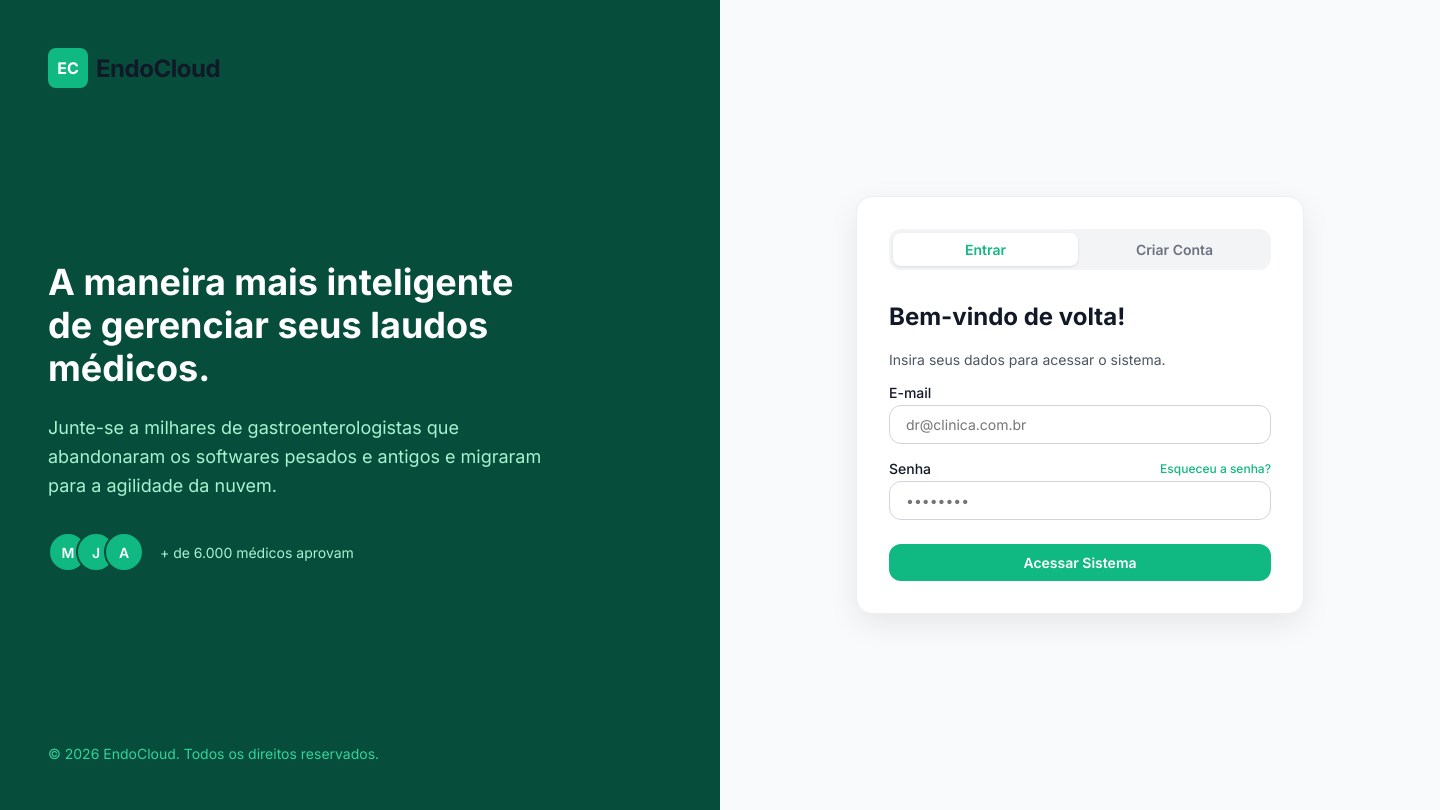
AuthPage › volta ao formulário de login ao clicar em Entrar
Click the button "Criar Conta" at (1174,250), box [1082,233,1267,266]
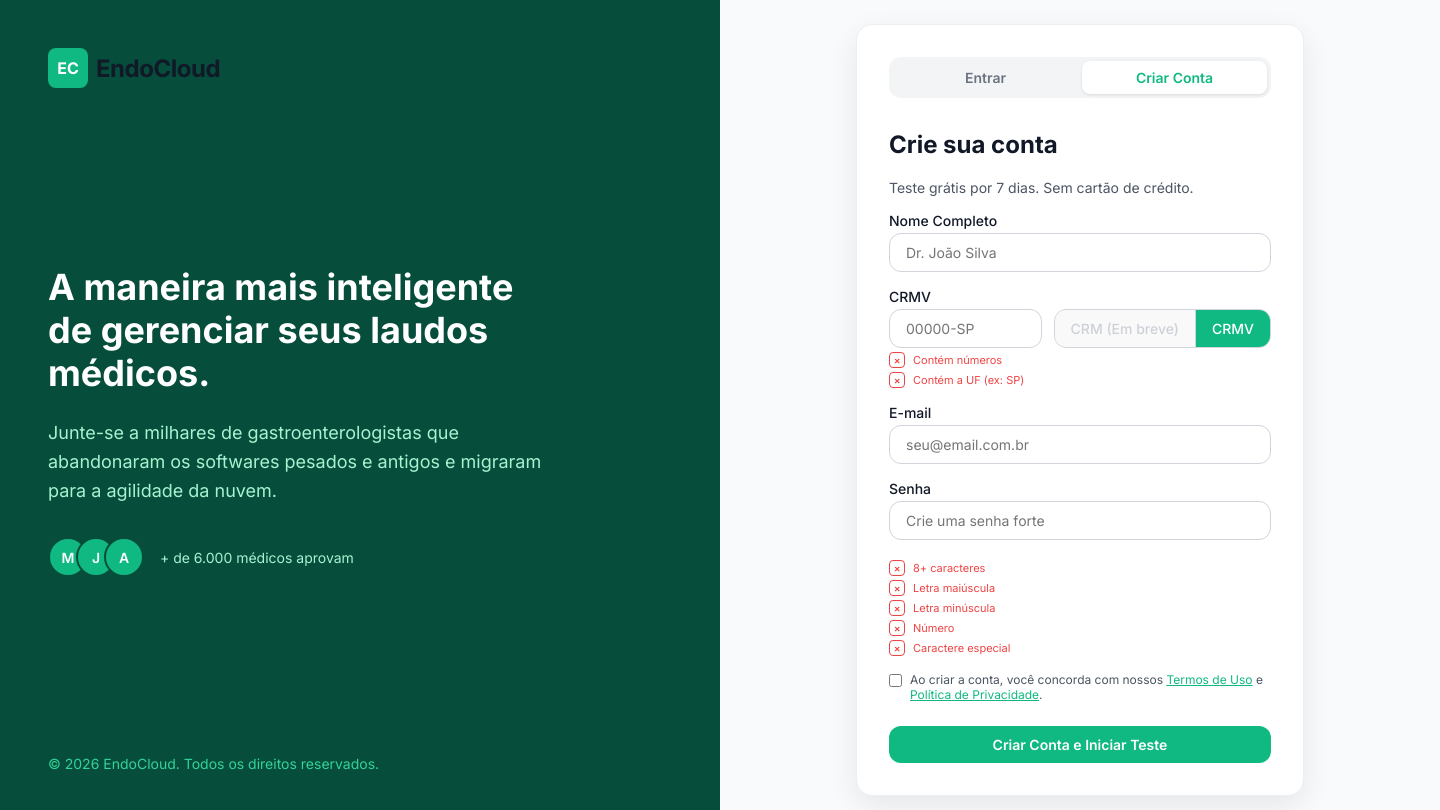
Click the button "Entrar" at (986,78), box [893,61,1078,94]
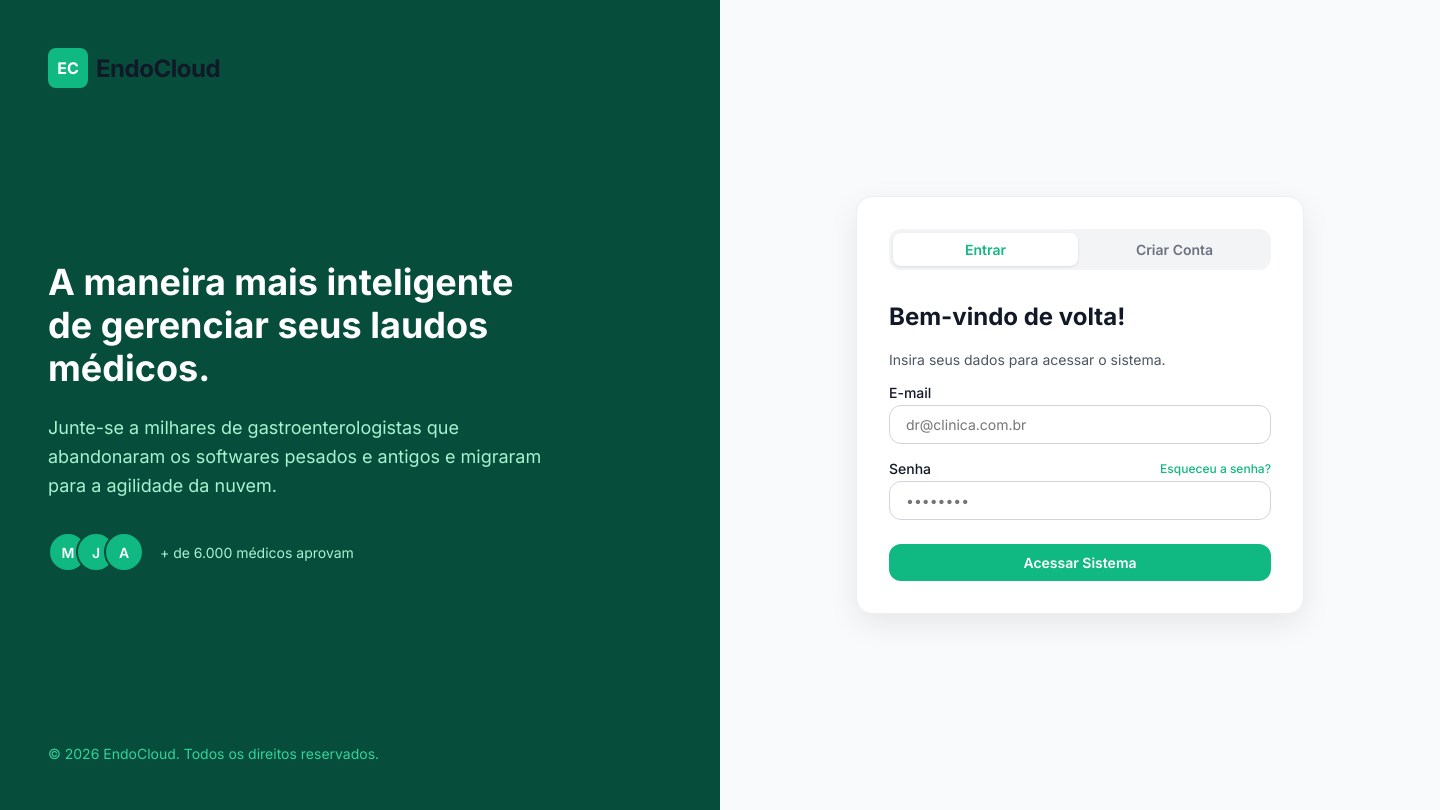
Expected: the heading "Bem-vindo de volta!" is shown, [889,302,1125,331]
